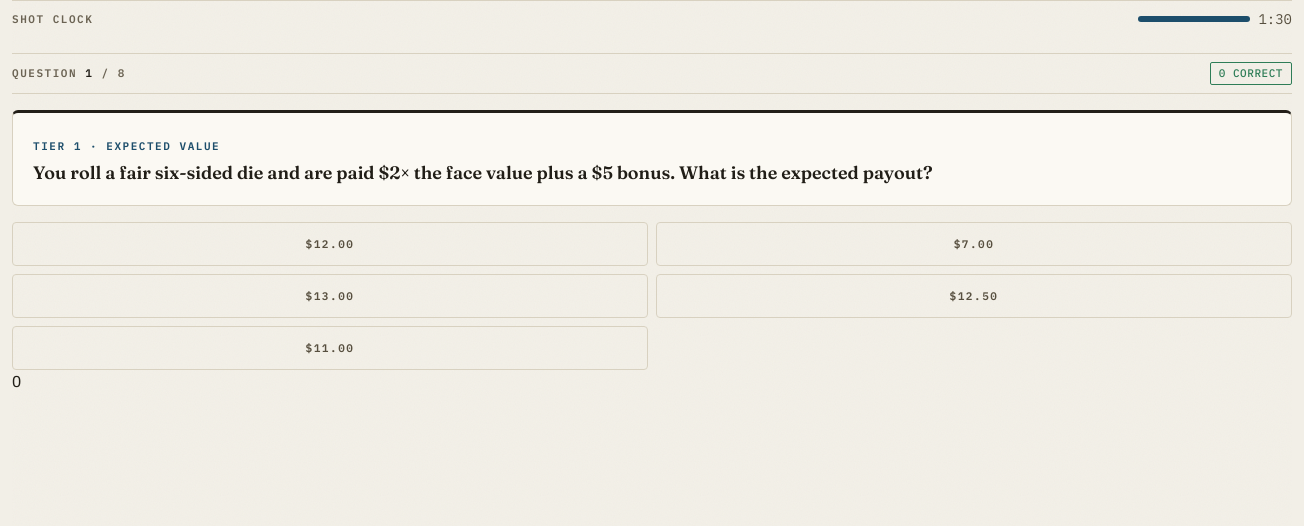
it: BeatTheOddsStation — per-question clock › answering an option folds an attempt and resets the clock for the next
This screenshot has width=1304, height=526.
Click the button named "option 1" at (330, 244), box x1=12 y1=222 x2=648 y2=266
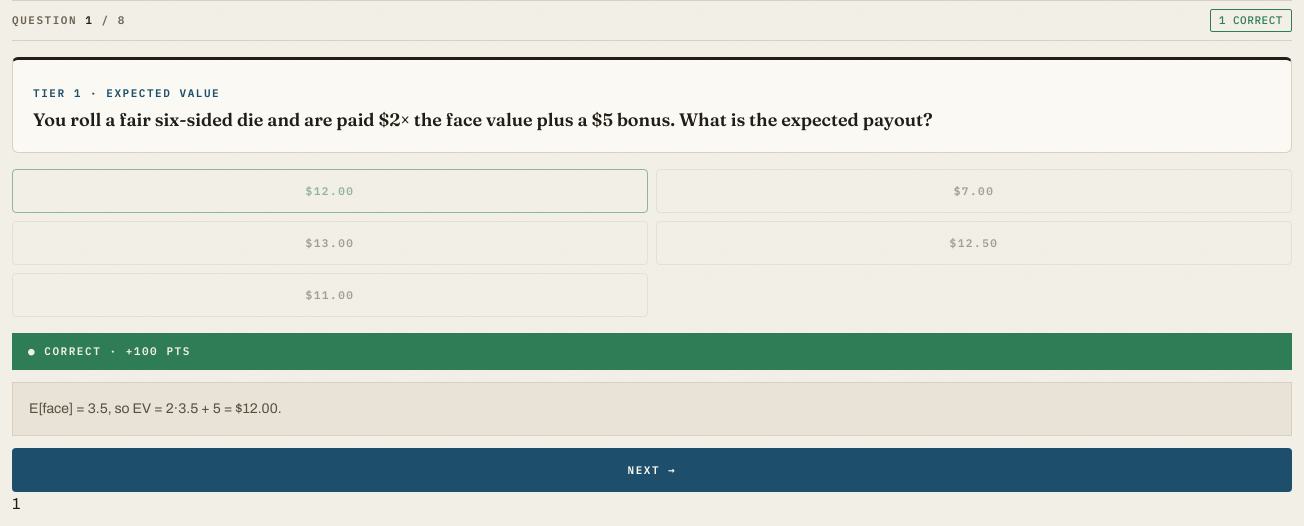
Expected: the button with test id "station-advance" is shown
Click the button with test id "station-advance" at (652, 470), box x1=12 y1=448 x2=1292 y2=492
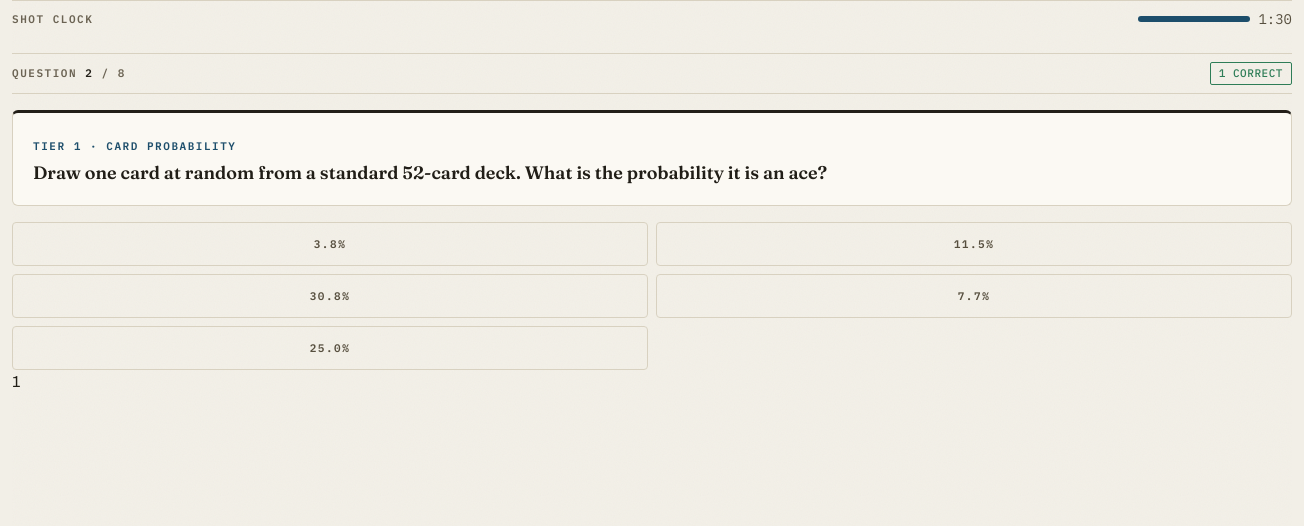
Expected: the button named "option 1" is shown, x1=12 y1=222 x2=648 y2=266
Expected: the element with test id "shot-clock" is shown, x1=12 y1=0 x2=1292 y2=37
